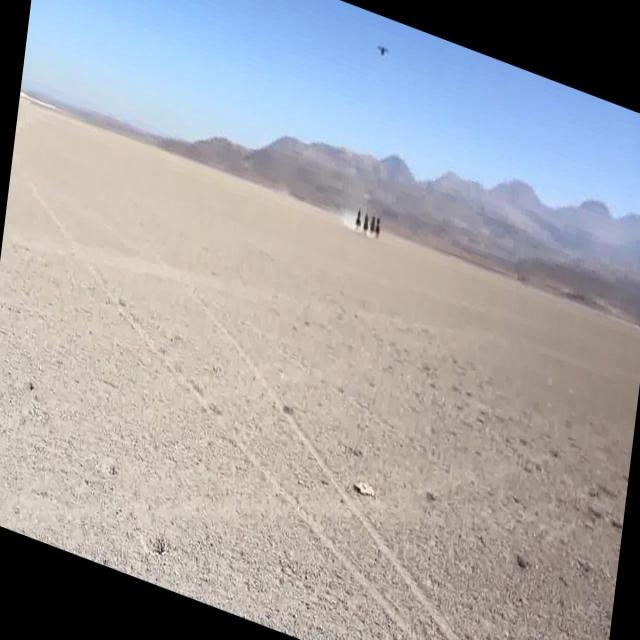drone: (374, 38, 392, 65)
